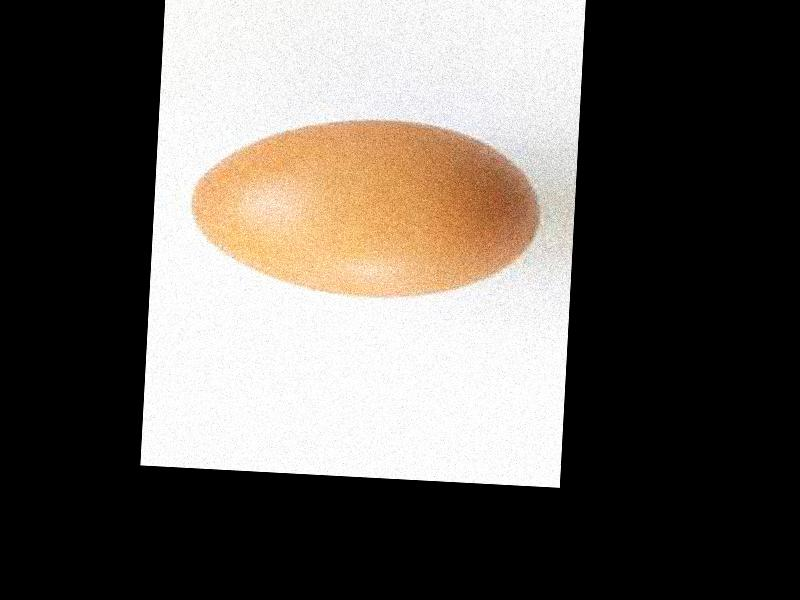Eggs: (187, 110, 542, 304)
